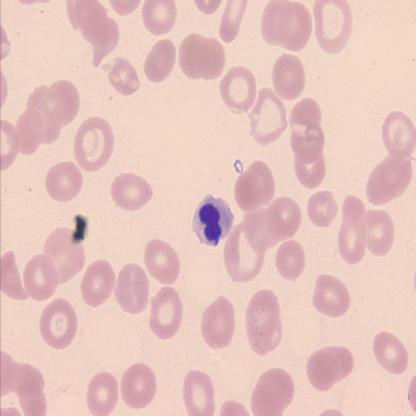NRC: (193, 192, 235, 246)
